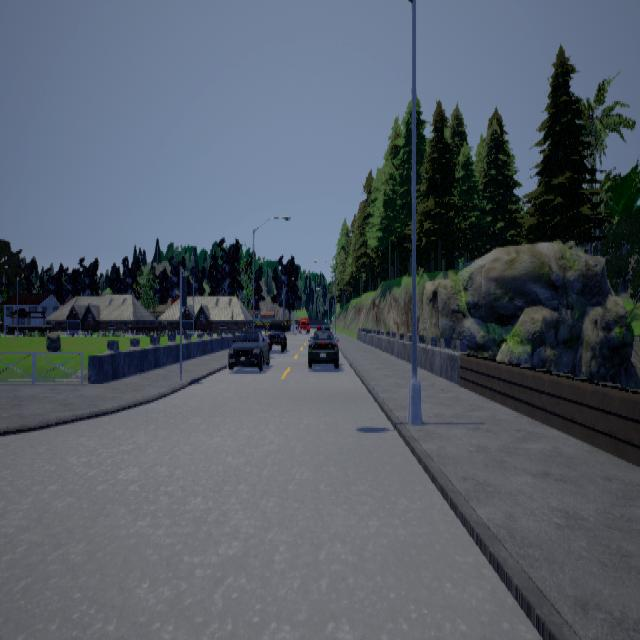vehicle: (226, 318, 268, 371), (307, 323, 338, 368), (265, 318, 287, 352)
